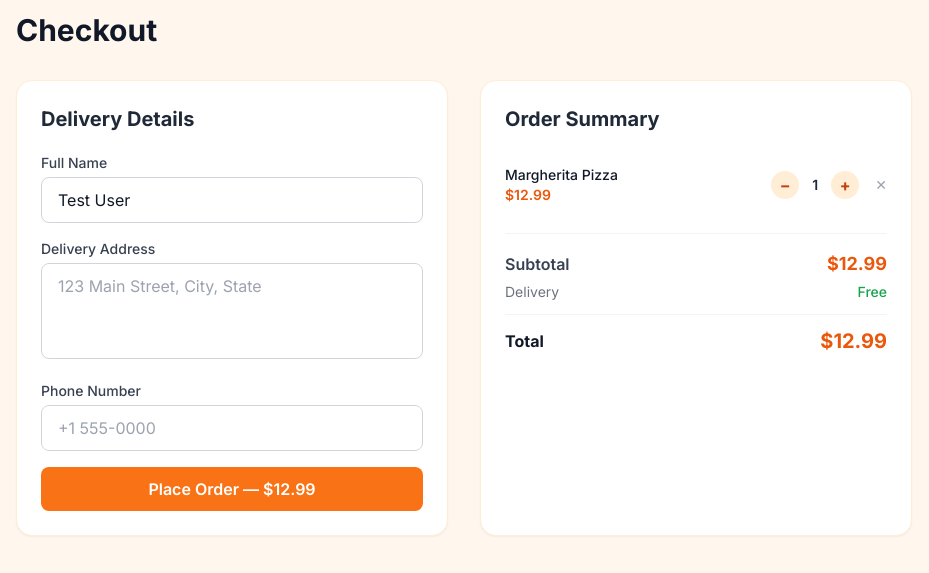
it: CheckoutPage › shows validation error when phone is empty on submit
Replace the text in the field with test id "input-name" with "John" at (232, 200), box [41, 177, 423, 223]
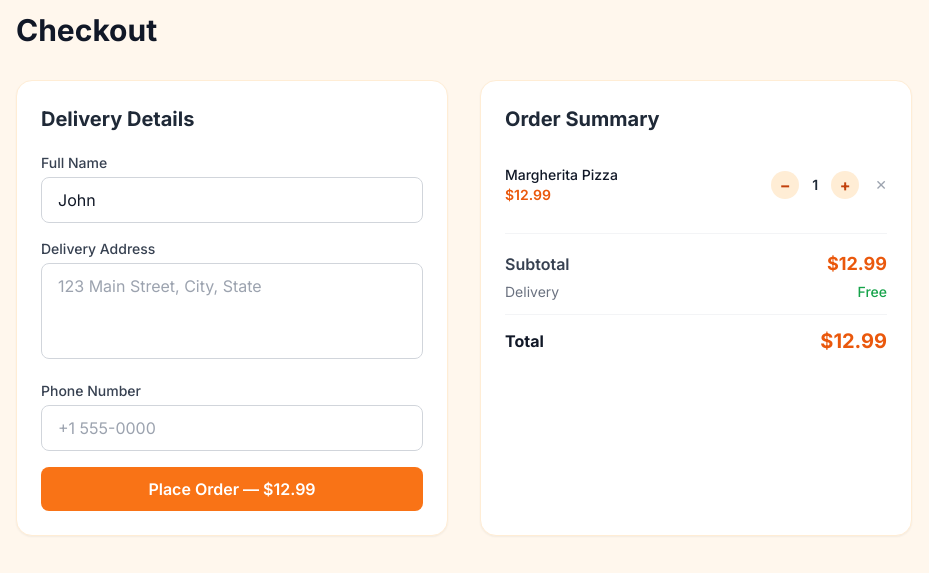
Type "123 Main St" into the text box with test id "input-address" at (232, 311), box [41, 263, 423, 359]
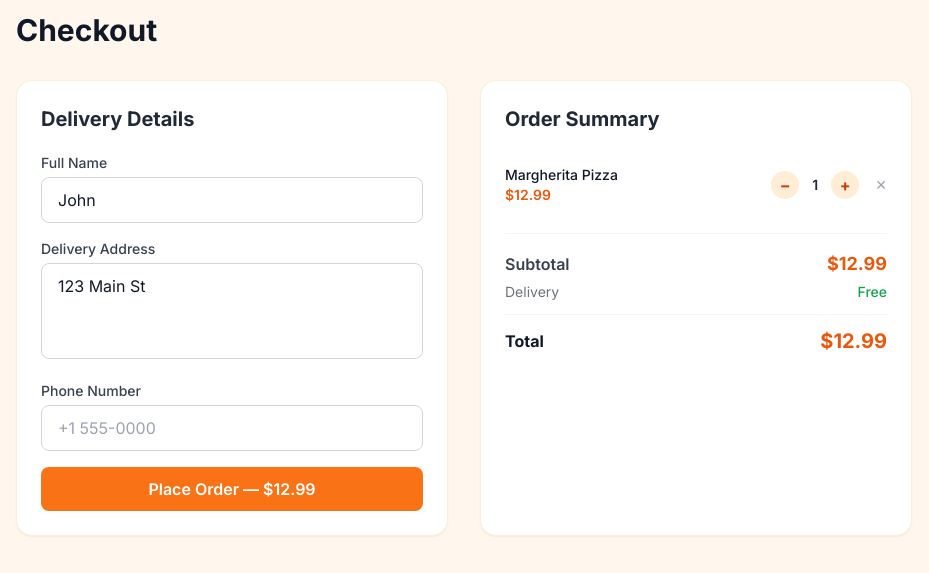
Click the button with test id "submit-order" at (232, 489), box [41, 467, 423, 511]
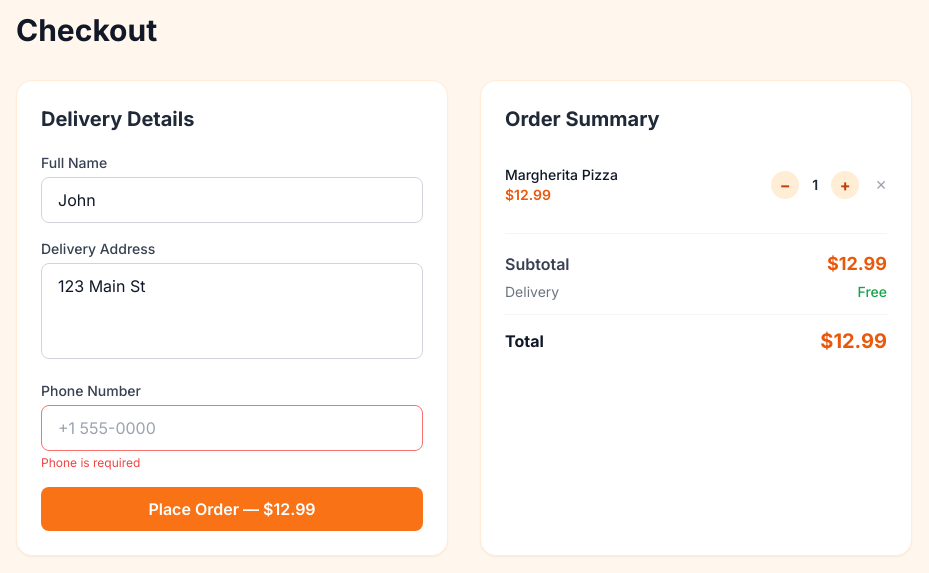
expect the text with test id "error-phone" reads "Phone is required": met, box [41, 455, 140, 470]
